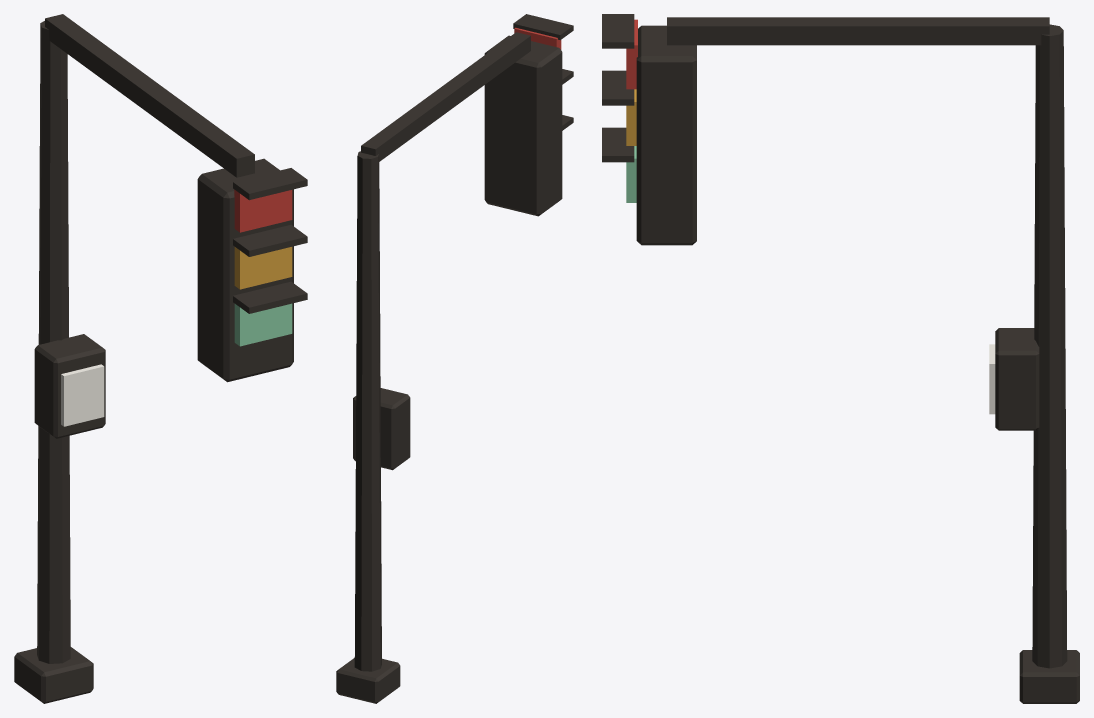
Rendered from traffic_signal.glb.
3 renders of one model, left to right at view 1: azimuth 30°, elevation 25°; view 2: azimuth 150°, elevation 25°; view 3: azimuth 270°, elevation 25°, orthographic. The views are drawn at different scales.
Visible parts, largest first — view 1: traffic_signal_pole, traffic_signal_head, traffic_signal_mast, traffic_signal_pedbox, traffic_signal_base, traffic_signal_pedface, traffic_signal_lens0, traffic_signal_lens2, traffic_signal_lens1, traffic_signal_visor2, traffic_signal_visor0, traffic_signal_visor1; view 2: traffic_signal_pole, traffic_signal_head, traffic_signal_mast, traffic_signal_pedbox, traffic_signal_base, traffic_signal_visor0, traffic_signal_lens0; view 3: traffic_signal_pole, traffic_signal_head, traffic_signal_mast, traffic_signal_pedbox, traffic_signal_base, traffic_signal_visor0, traffic_signal_visor1, traffic_signal_visor2.
Part boxes in pixels (x1,y1,x2,y2): traffic_signal_pole: (37,21,70,663); traffic_signal_head: (197,158,293,382); traffic_signal_mast: (45,14,254,177); traffic_signal_pedbox: (34,334,105,438); traffic_signal_base: (14,647,93,703); traffic_signal_pedface: (61,364,104,426); traffic_signal_lens0: (234,189,292,232); traffic_signal_lens2: (234,303,292,346); traffic_signal_lens1: (234,247,292,289); traffic_signal_visor2: (233,281,307,313); traffic_signal_visor0: (233,168,307,200); traffic_signal_visor1: (233,224,307,256); traffic_signal_pole: (354,151,381,671); traffic_signal_head: (484,35,562,216); traffic_signal_mast: (361,32,530,161); traffic_signal_pedbox: (353,388,410,470); traffic_signal_base: (336,658,400,703); traffic_signal_visor0: (513,14,573,40); traffic_signal_lens0: (514,27,561,49); traffic_signal_pole: (1032,24,1067,668); traffic_signal_head: (636,25,696,245); traffic_signal_mast: (667,17,1049,45); traffic_signal_pedbox: (995,328,1039,430); traffic_signal_base: (1019,650,1079,703); traffic_signal_visor0: (602,14,634,48); traffic_signal_visor1: (602,70,634,105); traffic_signal_visor2: (602,127,634,162).
Size of the model in its own units: 0.7 by 6.38 by 4.12.
